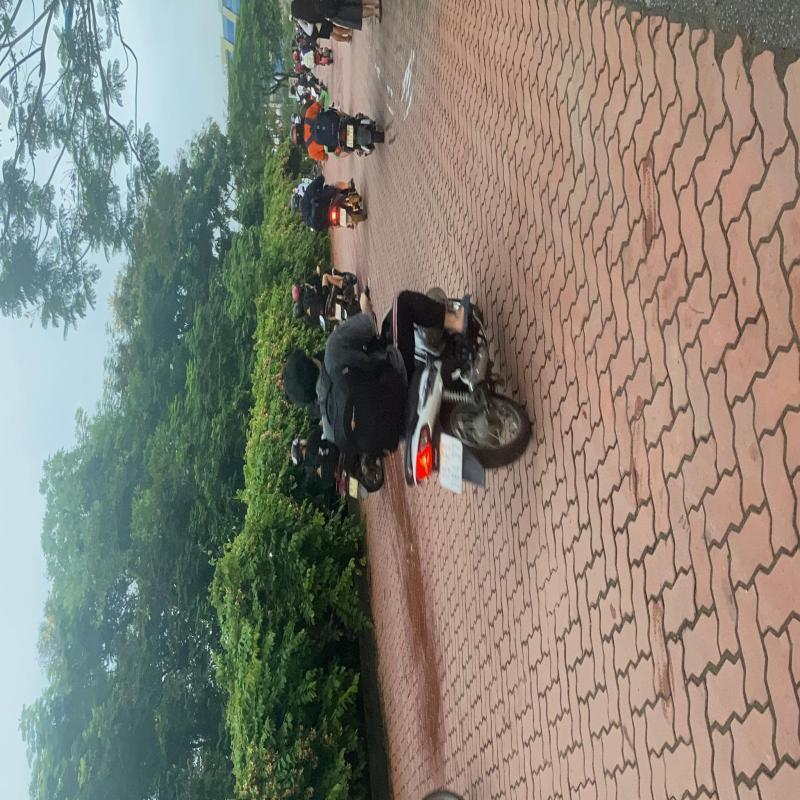licenseplate: (171, 779, 205, 800)
motorcyclist: (164, 495, 298, 800)
nohelmet: (219, 500, 256, 572)
